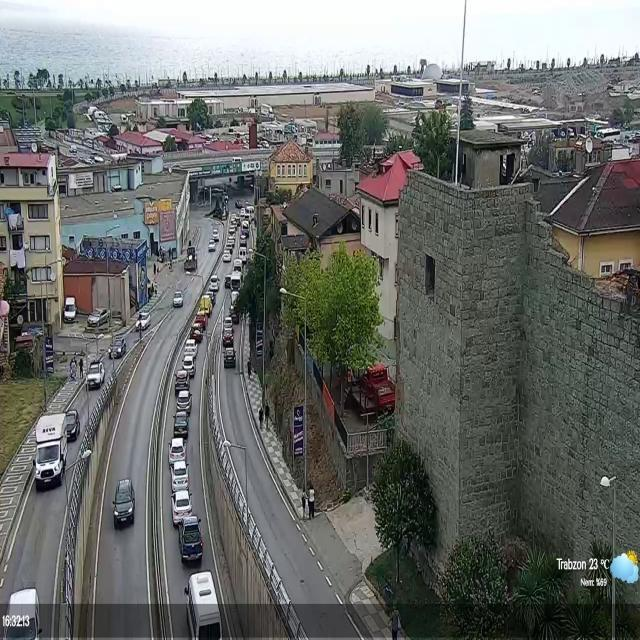Car: (3, 585, 44, 640), (178, 516, 205, 566), (114, 480, 136, 531), (171, 490, 193, 523), (86, 361, 105, 390), (172, 461, 190, 491), (168, 437, 188, 464), (65, 406, 80, 440), (108, 337, 128, 362), (172, 412, 190, 438), (87, 307, 110, 326), (62, 296, 76, 327), (175, 391, 193, 414), (173, 370, 190, 394), (187, 322, 205, 343), (135, 312, 152, 332), (183, 338, 197, 359), (183, 356, 196, 377), (224, 347, 236, 369), (172, 290, 184, 310), (223, 327, 234, 348), (210, 274, 219, 294), (222, 248, 233, 263), (206, 241, 217, 253), (213, 231, 222, 242)
Truck: (182, 572, 228, 640), (32, 412, 68, 490)
